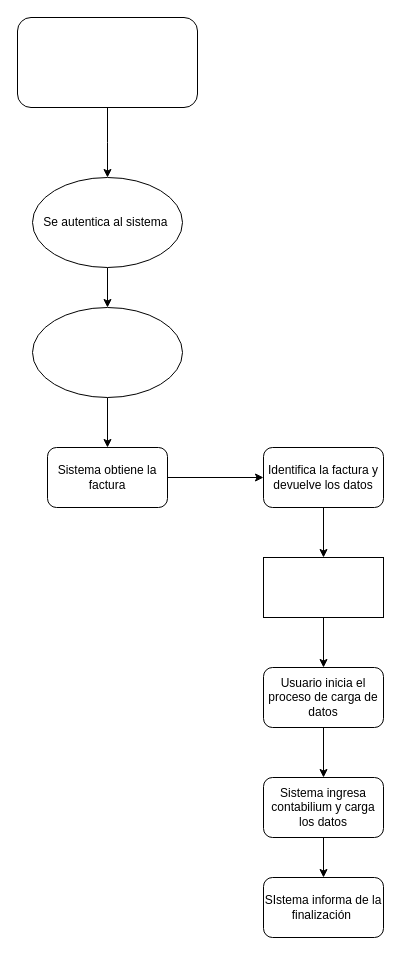
Some shapes in this 401 by 955 pixel diagram are drawn without their labels. The shapes that lost their labels are listed below. From the top down, each one's centre as x and y in pixels, then its label:
(107,62): Usuario
(107,352): Opcion para cargar factura
(323,587): Usuario revisa que los datos son correctos
